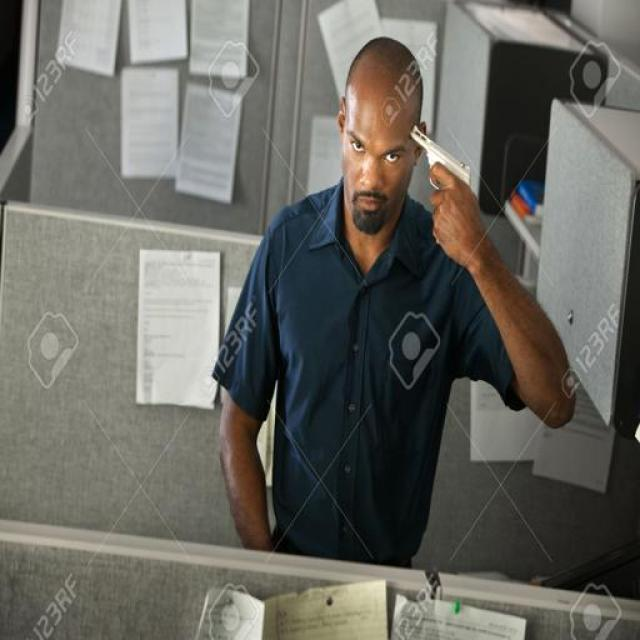pistol: (404, 114, 475, 258)
